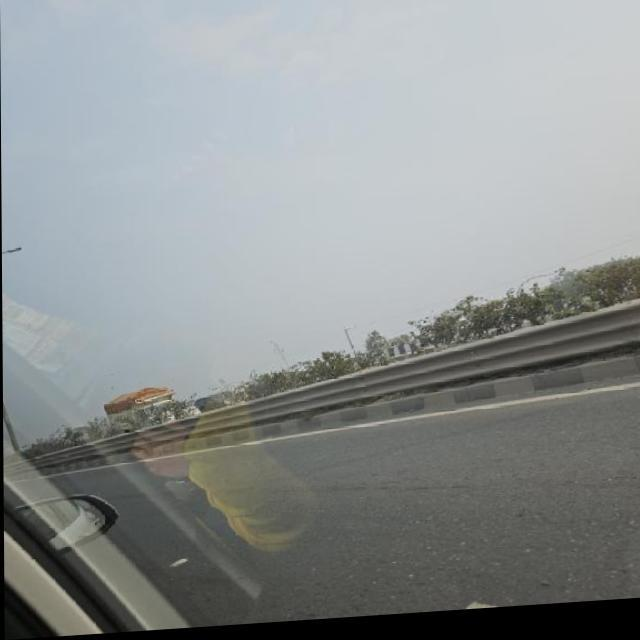covered: (86, 376, 220, 439)
